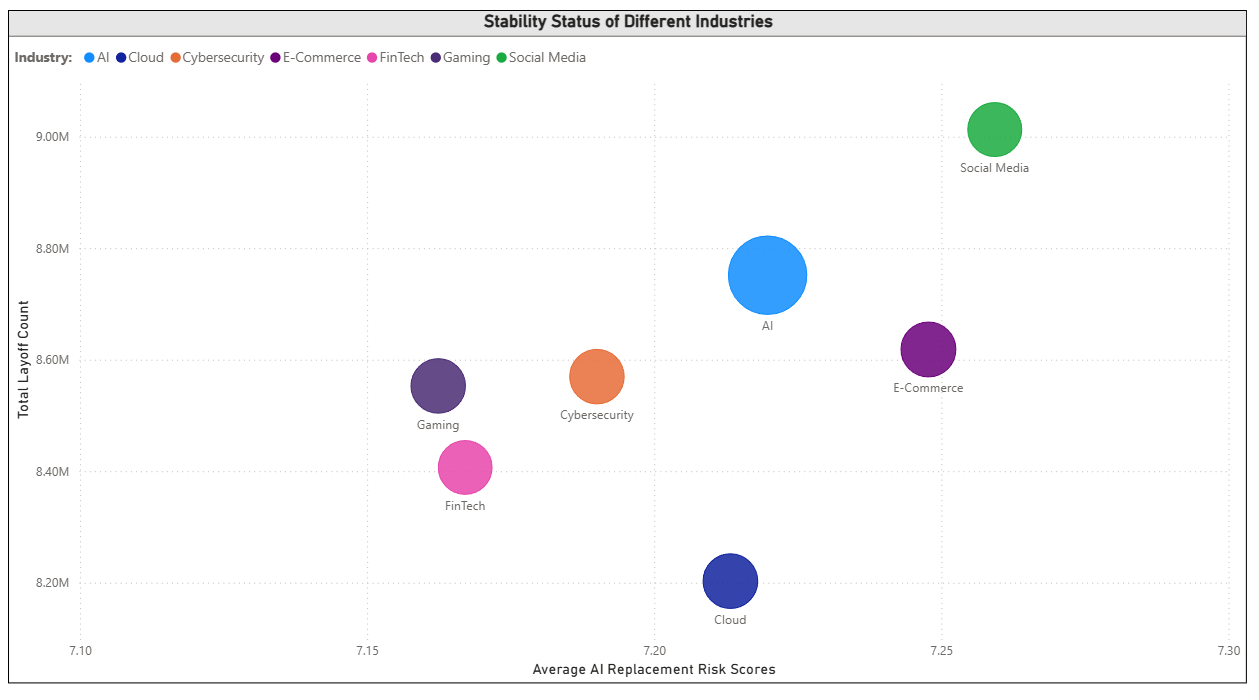

The page's visual inventory and layout, read from the dashboard file:
{"tool":"powerbi","page":{"name":"10","canvas":[1280,720],"ordinal":9},"visuals":[{"type":"scatterChart","title":"Stability Status of Different Industries","fields":{"Category":["tech_layoffs_hiring_trends_elit.industry"],"X":["Avg(tech_layoffs_hiring_trends_elit.ai_replacement_risk)"],"Y":["Sum(tech_layoffs_hiring_trends_elit.layoffs_count)"],"Size":["Sum(tech_layoffs_hiring_trends_elit.open_roles)"],"Series":["tech_layoffs_hiring_trends_elit.industry"]},"box":[48.6,24.3,1205.1,654.6],"z":0}]}

Visuals, with their boxes in screenshot pixels (x1, y1, x2, y2), scaled from the page's 1280x720 canvas onto the 1259x700 screenshot:
"Stability Status of Different Industries" scatterChart: [x1=48, y1=24, x2=1233, y2=660]
